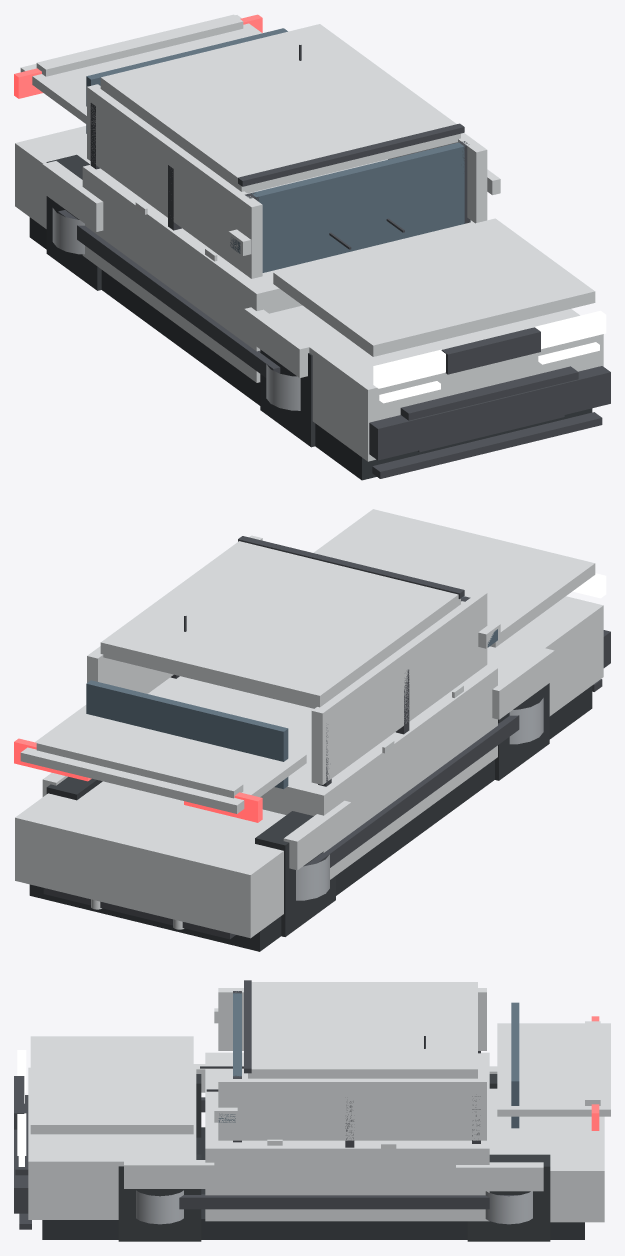
File: car.glb
The picture shows the model from 3 angles, top to bottom: view 1: azimuth 30°, elevation 25°; view 2: azimuth 150°, elevation 25°; view 3: azimuth 270°, elevation 25°; orthographic projection. The views are drawn at different scales.
Visible parts, largest first — view 1: roof, hood, windshield_front, body_lower_mid, body_lower_front, cabin_upper_L, front_bumper, chassis, door_sill_L, trunk_lid, body_lower_rear, front_lip (+15 smaller); view 2: roof, body_lower_rear, body_lower_mid, hood, cabin_upper_L, trunk_lid, body_lower_front, windshield_rear, chassis, door_sill_L, rear_spoiler, tire_RL (+11 smaller); view 3: roof, body_lower_mid, cabin_upper_R, hood, body_lower_front, trunk_lid, body_lower_rear, chassis, door_sill_R, tire_RR, tire_FR, fender_arch_fr (+14 smaller).
Part boxes in pixels (<box>): roof: <box>100,24,460,193</box>; hood: <box>273,218,595,356</box>; windshield_front: <box>252,142,464,272</box>; body_lower_mid: <box>82,159,474,382</box>; body_lower_front: <box>266,305,603,461</box>; cabin_upper_L: <box>87,84,262,278</box>; front_bumper: <box>369,366,610,460</box>; chassis: <box>29,217,592,480</box>; door_sill_L: <box>58,210,280,377</box>; trunk_lid: <box>20,15,261,124</box>; body_lower_rear: <box>15,126,90,228</box>; front_lip: <box>372,412,602,478</box>; roof: <box>100,541,460,708</box>; body_lower_rear: <box>15,781,285,938</box>; body_lower_mid: <box>148,665,497,879</box>; hood: <box>313,509,595,647</box>; cabin_upper_L: <box>311,590,487,784</box>; trunk_lid: <box>20,705,306,813</box>; body_lower_front: <box>487,596,603,716</box>; windshield_rear: <box>86,680,288,789</box>; chassis: <box>29,686,592,951</box>; door_sill_L: <box>304,709,519,867</box>; rear_spoiler: <box>36,736,243,798</box>; tire_RL: <box>255,811,335,936</box>; roof: <box>248,982,477,1078</box>; body_lower_mid: <box>205,1052,489,1221</box>; cabin_upper_R: <box>218,1077,486,1140</box>; hood: <box>30,1036,193,1134</box>; body_lower_front: <box>28,1067,196,1219</box>; trunk_lid: <box>497,1023,610,1116</box>; body_lower_rear: <box>489,1088,604,1222</box>; chassis: <box>42,1127,584,1239</box>; door_sill_R: <box>169,1194,519,1209</box>; tire_RR: <box>467,1154,550,1241</box>; tire_FR: <box>118,1154,201,1241</box>; fender_arch_fr: <box>124,1160,214,1188</box>.
Size of the model in its own units: 1.96 by 1.55 by 4.62.
